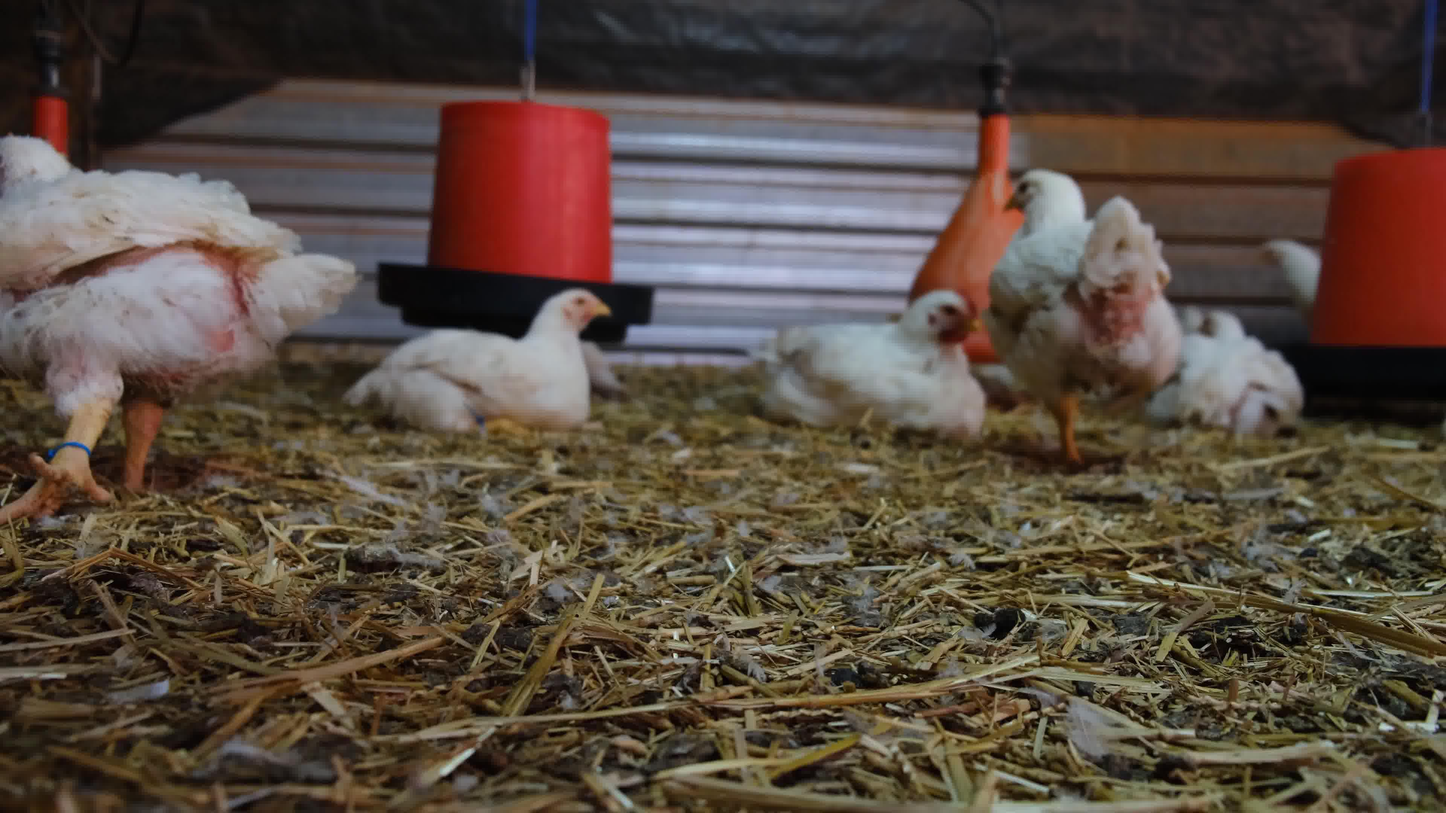AbNormal: (346, 252, 659, 463), (751, 271, 1032, 472), (1171, 294, 1326, 450)
Normal: (0, 73, 409, 514), (979, 145, 1235, 478), (1248, 211, 1344, 324)
